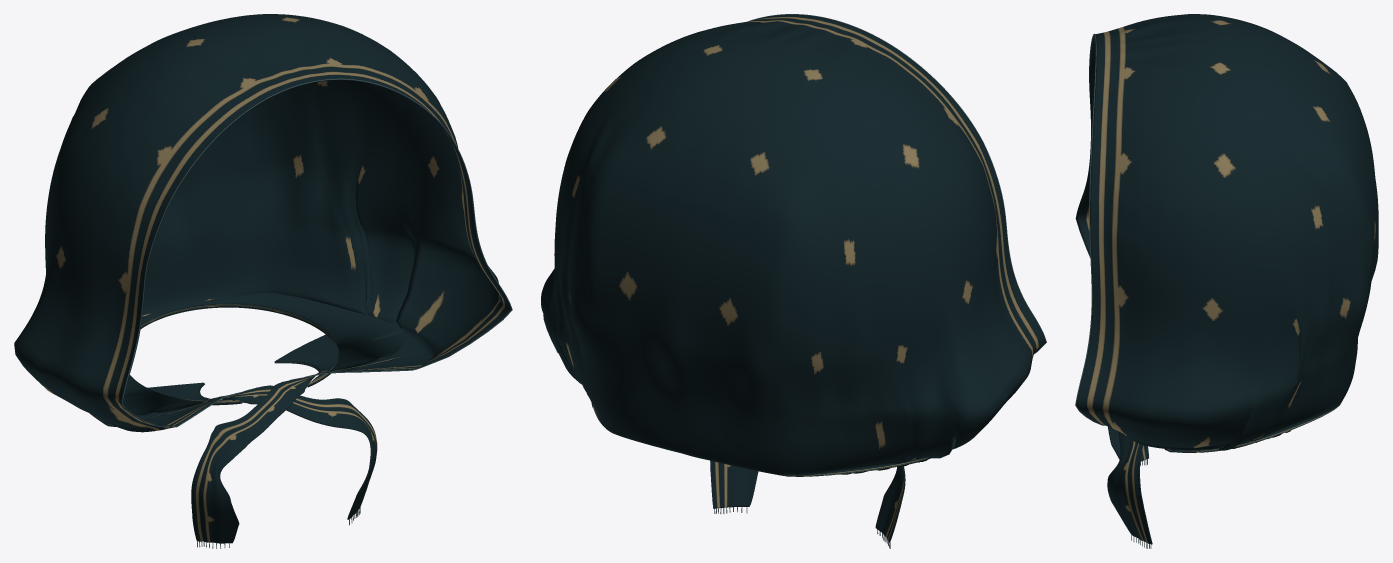
File: Feminine-box-braids-open-pashmina249-headgear.glb
3 renders of one model, left to right at view 1: azimuth 30°, elevation 25°; view 2: azimuth 150°, elevation 25°; view 3: azimuth 270°, elevation 25°, orthographic. The views are drawn at different scales.
Parts seen in each view (by area): view 1: 226 headgear / Headwear / continuous woven pashmina239, 226 headgear / Headwear / face edge239; view 2: 226 headgear / Headwear / continuous woven pashmina239, 226 headgear / Headwear / face edge239; view 3: 226 headgear / Headwear / continuous woven pashmina239, 226 headgear / Headwear / face edge239.
Part boxes in pixels (<box>): 226 headgear / Headwear / continuous woven pashmina239: <box>14,14,511,543</box>; 226 headgear / Headwear / face edge239: <box>121,78,512,427</box>; 226 headgear / Headwear / continuous woven pashmina239: <box>541,14,1046,542</box>; 226 headgear / Headwear / face edge239: <box>747,14,1046,353</box>; 226 headgear / Headwear / continuous woven pashmina239: <box>1076,14,1378,544</box>; 226 headgear / Headwear / face edge239: <box>1075,33,1104,425</box>.
Size of the model in its own units: 1.33 by 1.38 by 0.8064.
Materials: 3 (1 with a texture image).
